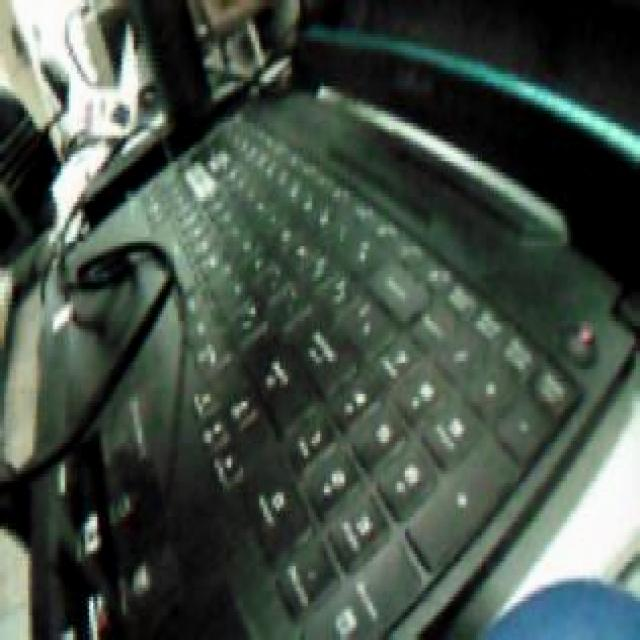BallPurple: (473, 577, 640, 640)
